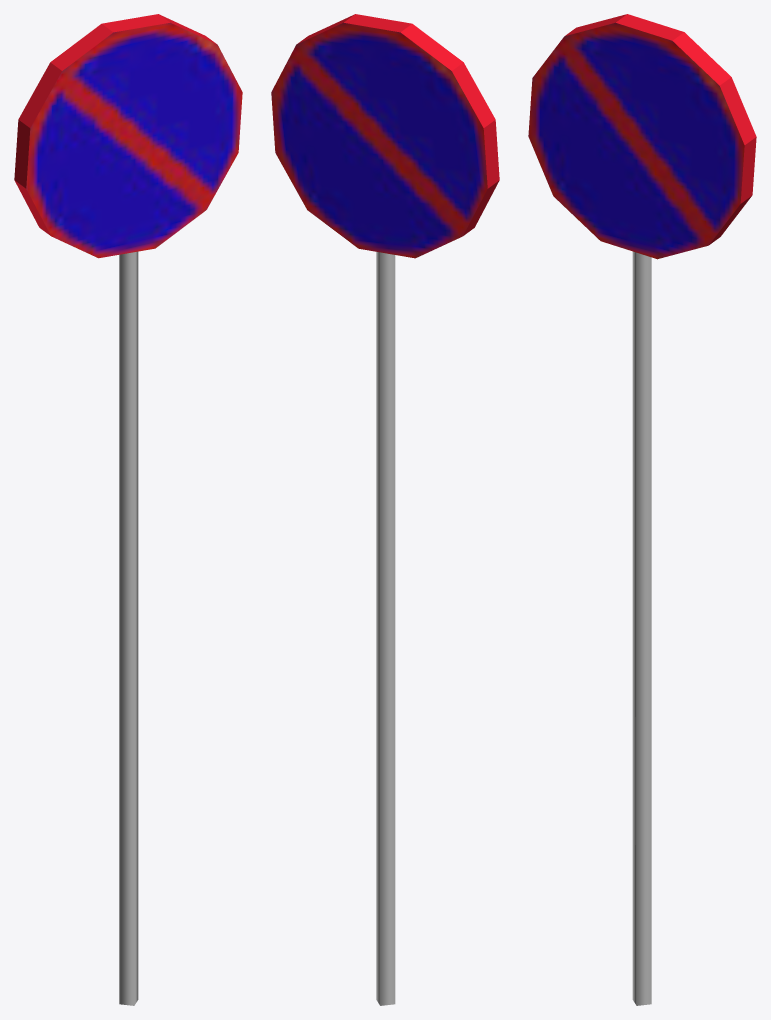
The model's file is no parking sign.fbx.
The picture shows the model from 3 angles, left to right: view 1: azimuth 30°, elevation 25°; view 2: azimuth 150°, elevation 25°; view 3: azimuth 330°, elevation 25°; orthographic projection.
Visible parts, largest first — view 1: no prking sign; view 2: no prking sign; view 3: no prking sign.
Boxes of the visible parts, left/top/right/bottom form: no prking sign: left=14, top=14, right=242, bottom=1005; no prking sign: left=271, top=14, right=499, bottom=1005; no prking sign: left=528, top=14, right=756, bottom=1005.
Bounding box in the file's own units: 7.38 × 31.89 × 0.7061.
